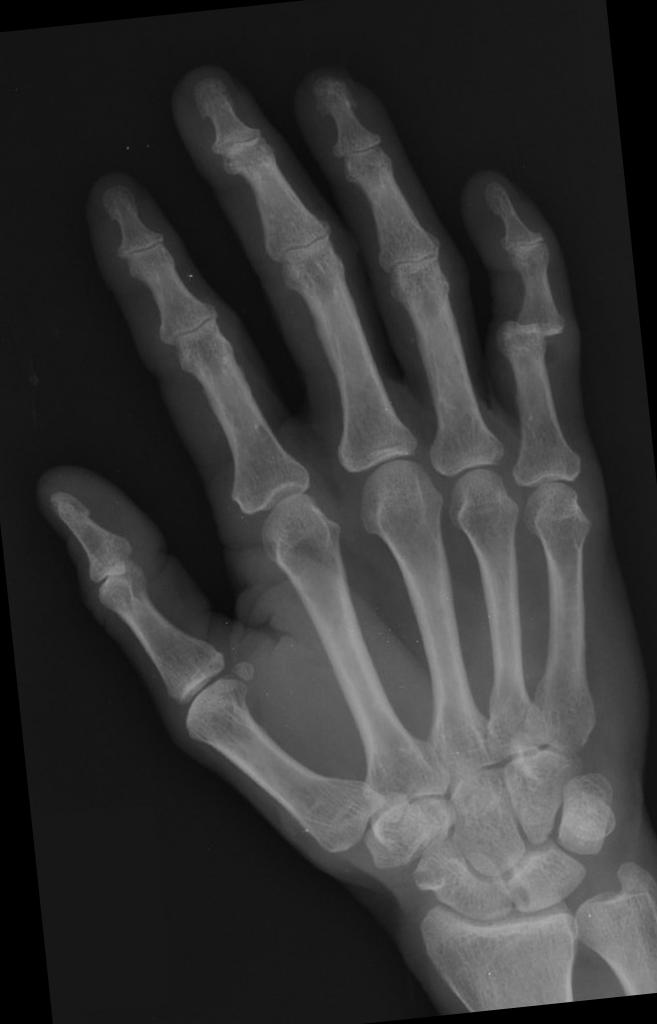fracture: (507, 314, 550, 344)
